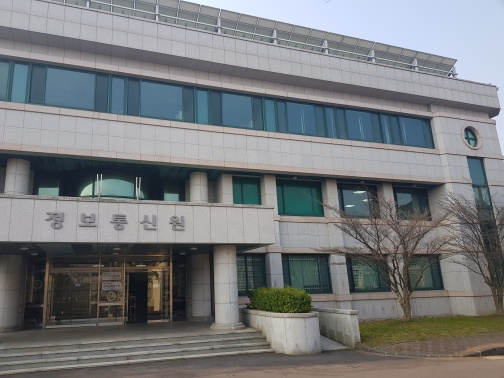Information Telecommunication Center: (3, 8, 499, 320), (5, 125, 219, 335), (39, 197, 198, 242)
